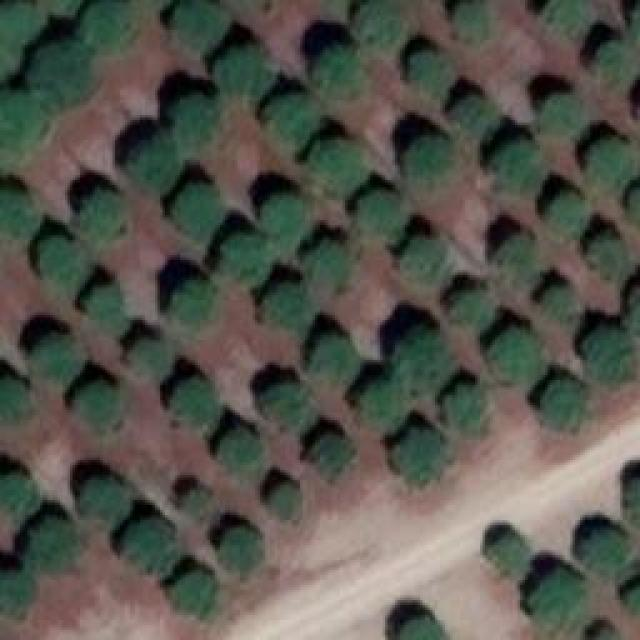Tree: (395, 328, 455, 391), (30, 45, 93, 103), (485, 328, 545, 383), (125, 140, 183, 193), (307, 140, 365, 193), (125, 518, 175, 578), (173, 185, 223, 245), (213, 50, 273, 98), (260, 195, 308, 253), (28, 333, 83, 383), (218, 233, 273, 283), (585, 330, 635, 385), (38, 235, 91, 285), (265, 98, 318, 148), (395, 430, 443, 485), (173, 3, 223, 53), (25, 523, 73, 573), (170, 377, 220, 425), (170, 98, 218, 148), (355, 0, 403, 50), (315, 48, 363, 98), (82, 0, 127, 52), (82, 477, 130, 525), (263, 285, 316, 328), (543, 380, 586, 433), (535, 570, 580, 620), (310, 335, 358, 380), (360, 382, 405, 430), (260, 385, 310, 428), (495, 143, 538, 193), (88, 283, 128, 336), (0, 95, 42, 145), (542, 0, 592, 42), (452, 95, 500, 138), (588, 140, 631, 188), (360, 193, 405, 238), (580, 528, 625, 573), (175, 573, 218, 618), (218, 430, 261, 475), (410, 53, 453, 98), (305, 243, 348, 288), (403, 238, 446, 283), (0, 0, 45, 42), (80, 190, 118, 238), (0, 190, 38, 238), (445, 388, 485, 433), (0, 478, 40, 521), (170, 283, 213, 323), (548, 193, 588, 236), (595, 43, 635, 86), (540, 95, 585, 133), (405, 140, 453, 175), (222, 528, 260, 571), (80, 383, 118, 426), (313, 435, 353, 475), (453, 287, 493, 325), (498, 235, 533, 278), (0, 570, 32, 615), (130, 340, 170, 375), (588, 238, 623, 278), (0, 378, 28, 423), (493, 532, 526, 570), (617, 467, 639, 524), (458, 3, 491, 38), (395, 617, 445, 640), (270, 485, 300, 520), (182, 493, 210, 518), (545, 290, 570, 315)
